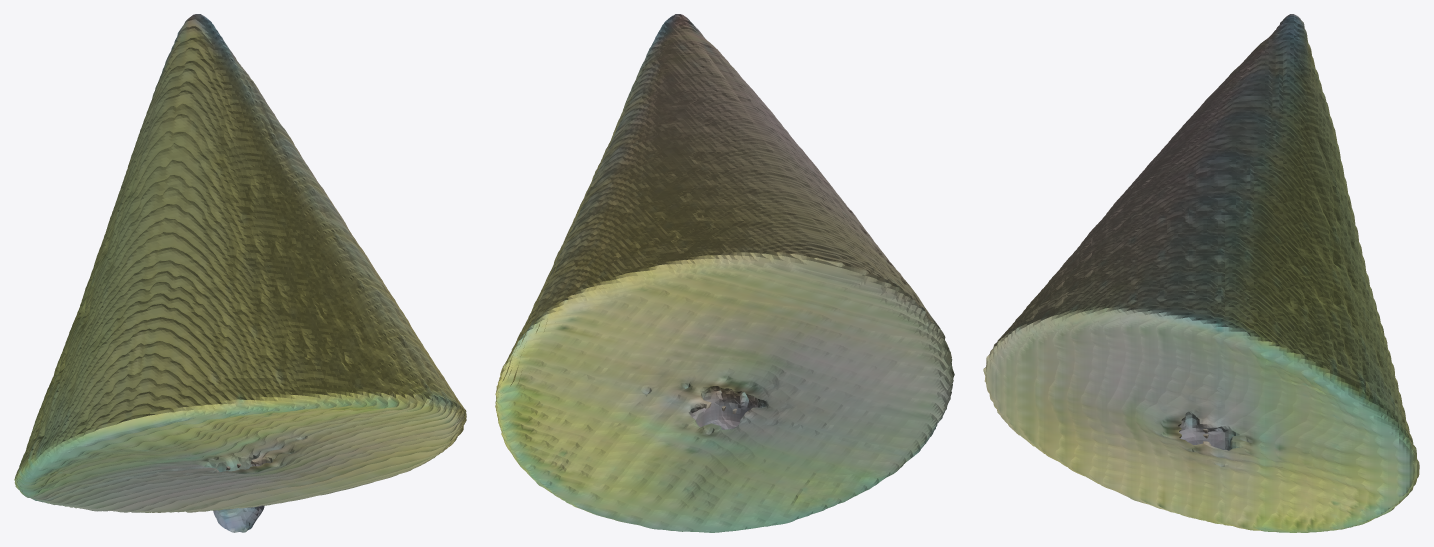
The picture shows the model from 3 angles, left to right: view 1: azimuth 30°, elevation 25°; view 2: azimuth 150°, elevation 25°; view 3: azimuth 270°, elevation 25°; orthographic projection.
Parts seen in each view (by area): view 1: geometry_0; view 2: geometry_0; view 3: geometry_0.
Part boxes in pixels (x1,y1,x2,y2): geometry_0: (14,14,466,532); geometry_0: (495,14,954,532); geometry_0: (983,14,1419,532).
Size of the model in its own units: 1.39 by 1.6 by 1.3.
